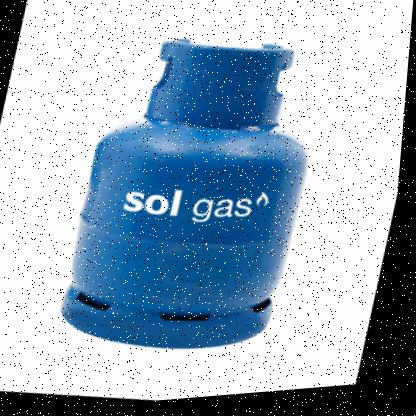gas-tank: (20, 5, 387, 393)
